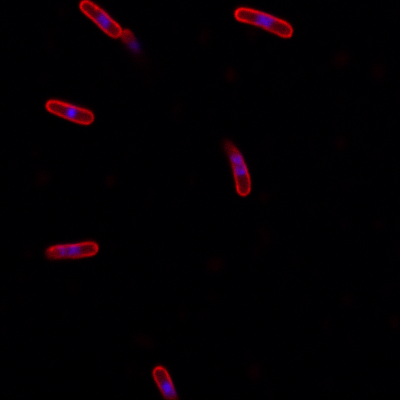Nalidixate: (234, 7, 293, 39), (78, 1, 124, 40), (45, 99, 95, 126)
Oblique: (223, 140, 252, 197), (45, 240, 99, 263), (152, 364, 176, 400), (119, 28, 142, 55)
